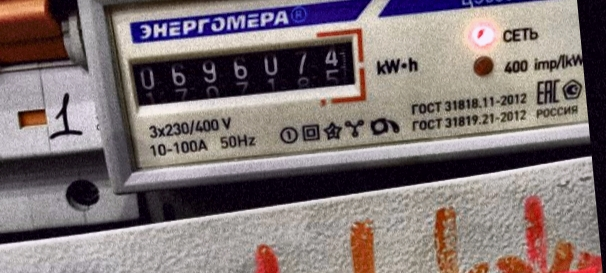0: (136, 64, 157, 91), (262, 49, 280, 77)
4: (322, 43, 341, 68)
5: (325, 67, 341, 86)
6: (168, 59, 190, 88), (230, 54, 249, 80)
7: (291, 48, 311, 75)
9: (198, 57, 219, 84)
screen: (116, 22, 374, 126)
